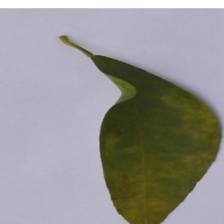greening: (96, 94, 224, 224)
